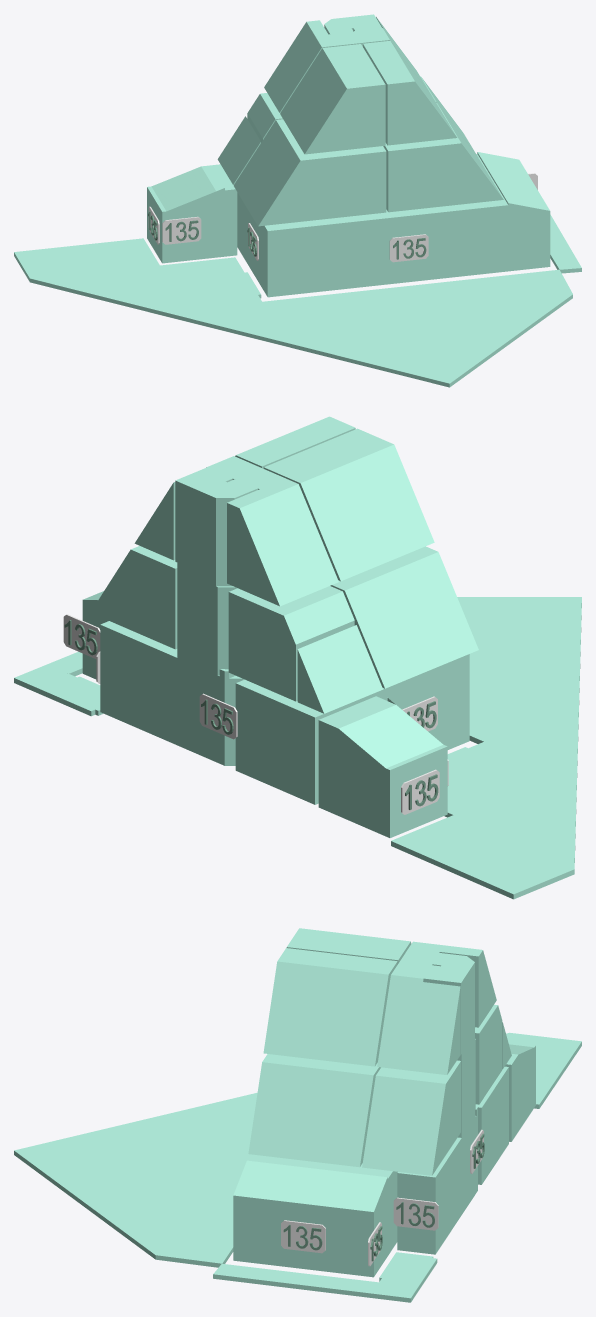
3 renders of one model, top to bottom at view 1: azimuth 30°, elevation 25°; view 2: azimuth 150°, elevation 25°; view 3: azimuth 270°, elevation 25°, orthographic. The views are drawn at different scales.
Parts seen in each view (by area): view 1: g_20, g_2, g_17, g_7, g_12, g_1, g_8, g_0, g_13, g_14, g_16, g_19 (+4 smaller); view 2: g_17, g_20, g_12, g_0, g_14, g_1, g_7, g_6, g_5, g_11, g_15, g_16 (+8 smaller); view 3: g_20, g_2, g_13, g_8, g_14, g_11, g_5, g_17, g_19, g_12, g_1, g_15 (+7 smaller).
Part boxes in pixels (x1,y1,x2,y2): g_20: (262,269,572,387); g_2: (349,152,550,288); g_17: (14,238,286,346); g_7: (233,119,386,226); g_12: (280,44,385,154); g_1: (237,192,351,297); g_8: (383,102,503,212); g_0: (147,164,237,263); g_13: (363,41,457,145); g_14: (264,17,431,112); g_16: (217,116,260,184); g_19: (550,214,581,273); g_17: (391,702,578,899); g_20: (457,597,581,743); g_12: (263,428,434,581); g_0: (318,696,447,837); g_14: (134,456,338,606); g_1: (235,654,469,804); g_7: (330,546,478,688); g_6: (228,586,354,701); g_5: (100,621,177,743); g_11: (90,546,177,649); g_15: (175,467,257,579); g_16: (297,625,382,713); g_20: (14,1105,254,1267); g_2: (233,1154,397,1277); g_13: (263,948,397,1066); g_8: (248,1054,380,1167); g_14: (377,941,496,1074); g_11: (362,1060,460,1175); g_5: (397,1139,460,1254); g_17: (206,1032,581,1110); g_19: (213,1263,378,1297); g_12: (286,928,411,964); g_1: (475,1066,508,1184); g_15: (423,953,474,1054).
Bounding box in the file's own units: 19 × 7.94 × 17.17.
